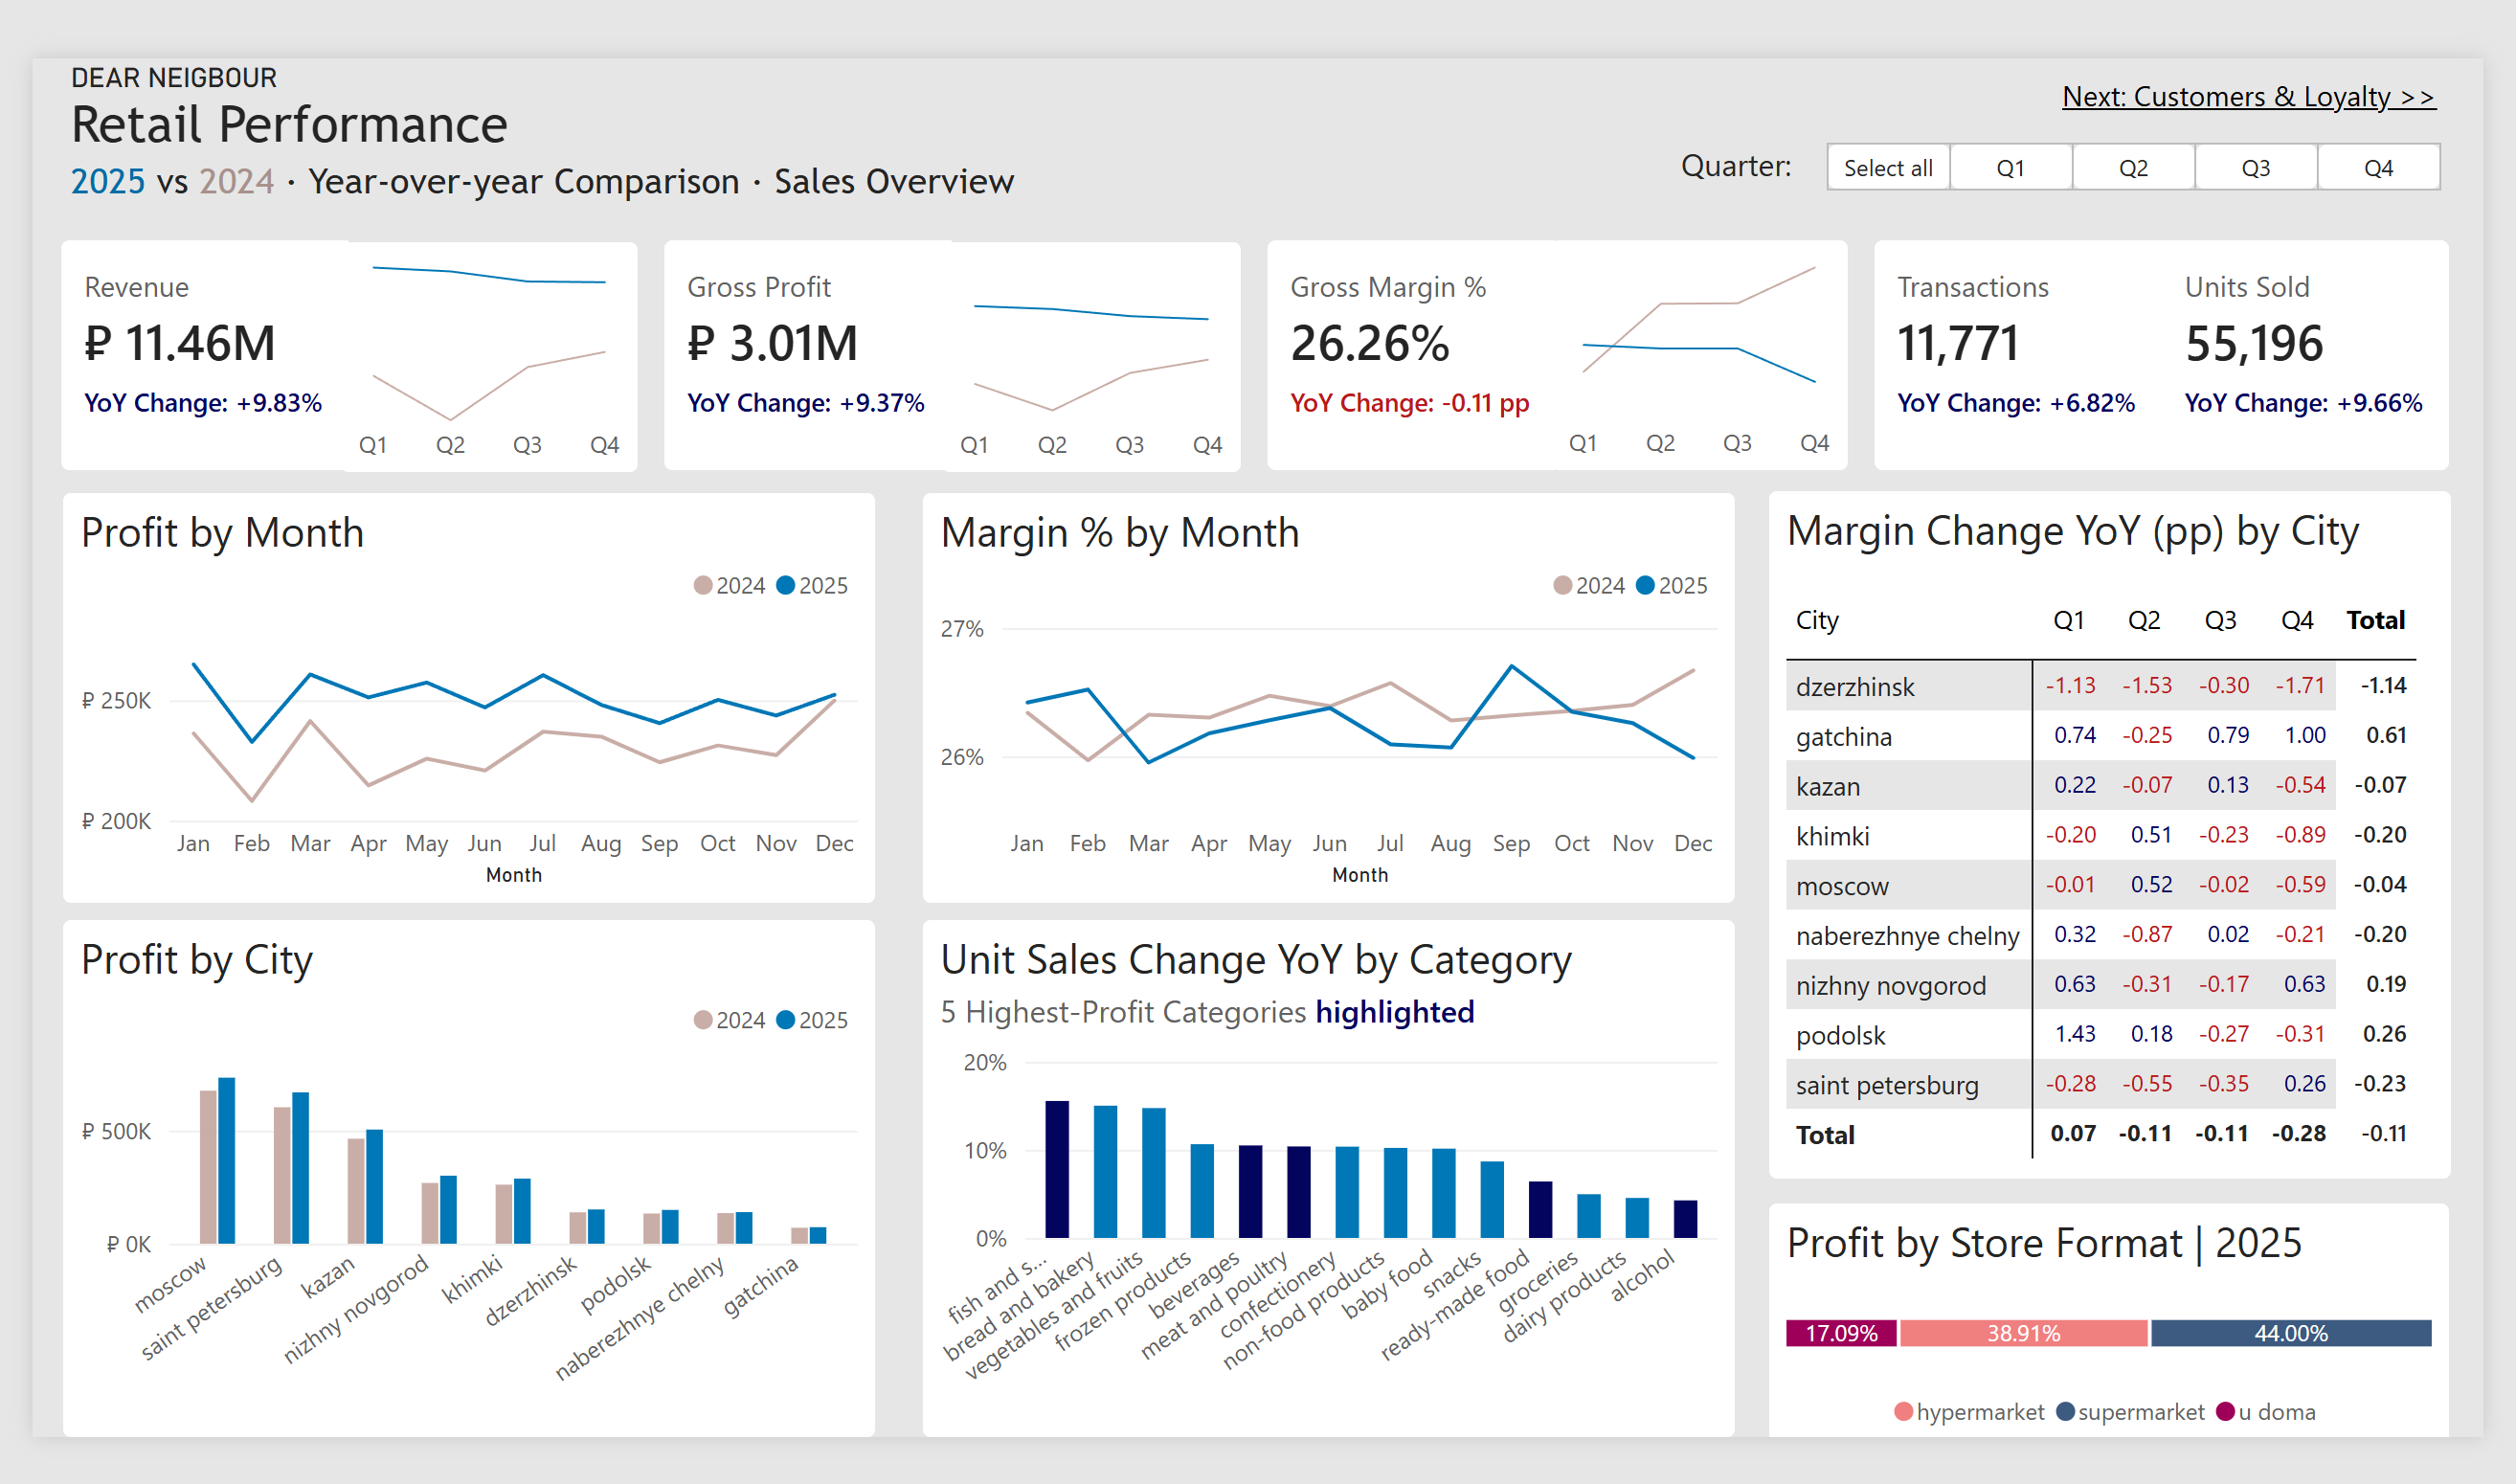

The page's visual inventory and layout, read from the dashboard file:
{"tool":"powerbi","page":{"name":"Sales Overview","canvas":[1280,720],"ordinal":0},"visuals":[{"type":"textbox","box":[0,0,290,60],"z":0},{"type":"advancedSlicerVisual","fields":{"Values":["calendar.Quarter"]},"box":[936.7,43.8,325,25],"z":1000},{"type":"textbox","box":[0,53.5,545.7,33.1],"z":2000},{"type":"cardVisual","fields":{"Data":["fact_sales.Gross Margin %"]},"box":[645,95,150,120],"z":3000},{"type":"cardVisual","fields":{"Data":["fact_sales.Transactions"]},"box":[962.1,95,150,120],"z":4000},{"type":"lineChart","title":"Gross Margin","fields":{"Category":["calendar.Quarter"],"Series":["calendar.Year"],"Y":["fact_sales.Gross Margin %"]},"box":[793.3,95,155,120],"z":5000},{"type":"pivotTable","title":"Gross Margin Change (pp) by City","fields":{"Columns":["calendar.Quarter"],"Rows":["dim_stores.city"],"Values":["fact_sales.Margin Change 2025"]},"box":[886.9,226.4,376.6,359.1],"z":6000},{"type":"lineChart","title":"Gross Margin","fields":{"Category":["calendar.Quarter"],"Series":["calendar.Year"],"Y":["fact_sales.Revenue"]},"box":[161.4,95.9,154.5,120],"z":7000},{"type":"lineChart","title":"Gross Margin","fields":{"Category":["calendar.Quarter"],"Series":["calendar.Year"],"Y":["fact_sales.Gross Profit"]},"box":[475,95.6,155.6,120],"z":8000},{"type":"cardVisual","fields":{"Data":["fact_sales.Units Sold"]},"box":[1112.1,95,150,120],"z":9000},{"type":"lineChart","title":"Revenue by Month","fields":{"Category":["calendar.Month"],"Series":["calendar.Year"],"Y":["fact_sales.Revenue"]},"box":[15.4,227.4,425,188.3],"z":10000},{"type":"clusteredColumnChart","title":"Revenue by City","fields":{"Category":["dim_stores.city"],"Series":["calendar.Year"],"Y":["fact_sales.Revenue"]},"box":[16.5,425,423.9,296.3],"z":11000},{"type":"clusteredColumnChart","title":"Revenue Share Change  (pp) by Category","fields":{"Category":["dim_products.category"],"Y":["fact_sales.Revenue Share Change pp"]},"box":[452,425,423.9,295.3],"z":12000},{"type":"textbox","box":[451.7,457.9,363.3,30],"z":13000},{"type":"lineChart","title":"Gross Margin % by Month","fields":{"Category":["calendar.Month"],"Series":["calendar.Year"],"Y":["fact_sales.Gross Margin %"]},"box":[452,227.4,423.9,189.3],"z":14000},{"type":"hundredPercentStackedBarChart","title":"Profit by Store Format | 2025","fields":{"Category":["calendar.Year"],"Series":["dim_stores.store_format"],"Y":["fact_sales.Gross Profit"]},"box":[886.9,597.8,374.5,127.6],"z":15000},{"type":"textbox","box":[860.8,43.8,75.9,25],"z":16000},{"type":"cardVisual","fields":{"Data":["fact_sales.Gross Profit"]},"box":[328.5,95.9,150,120],"z":17000},{"type":"cardVisual","fields":{"Data":["fact_sales.Revenue"]},"box":[15.6,95.9,150,120],"z":18000},{"type":"actionButton","title":"Next: Customers & Loyalty","box":[1052.4,0,228.6,37],"z":19000}]}

Visuals, with their boxes on the page's 1280x720 design canvas (x1, y1, x2, y2). These are canvas units, not pixel positions in the 2516x1484 screenshot, which may show the page scaled, cropped or inside an application window:
textbox: detection(0, 0, 290, 60)
advancedSlicerVisual - calendar.Quarter: detection(937, 44, 1262, 69)
textbox: detection(0, 54, 546, 87)
cardVisual - fact_sales.Gross Margin %: detection(645, 95, 795, 215)
cardVisual - fact_sales.Transactions: detection(962, 95, 1112, 215)
"Gross Margin" lineChart: detection(793, 95, 948, 215)
"Gross Margin Change (pp) by City" pivotTable: detection(887, 226, 1264, 586)
"Gross Margin" lineChart: detection(161, 96, 316, 216)
"Gross Margin" lineChart: detection(475, 96, 631, 216)
cardVisual - fact_sales.Units Sold: detection(1112, 95, 1262, 215)
"Revenue by Month" lineChart: detection(15, 227, 440, 416)
"Revenue by City" clusteredColumnChart: detection(16, 425, 440, 721)
"Revenue Share Change  (pp) by Category" clusteredColumnChart: detection(452, 425, 876, 720)
textbox: detection(452, 458, 815, 488)
"Gross Margin % by Month" lineChart: detection(452, 227, 876, 417)
"Profit by Store Format | 2025" hundredPercentStackedBarChart: detection(887, 598, 1261, 725)
textbox: detection(861, 44, 937, 69)
cardVisual - fact_sales.Gross Profit: detection(328, 96, 478, 216)
cardVisual - fact_sales.Revenue: detection(16, 96, 166, 216)
"Next: Customers & Loyalty" actionButton: detection(1052, 0, 1281, 37)
